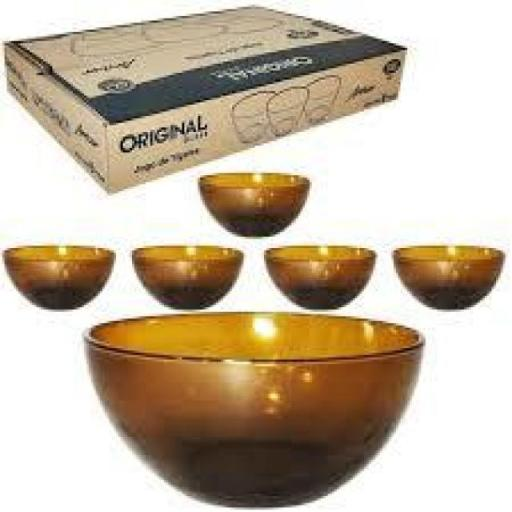glass: (79, 306, 427, 508), (196, 169, 314, 240), (262, 242, 380, 313), (392, 244, 506, 312), (132, 242, 246, 310), (3, 243, 116, 311)
